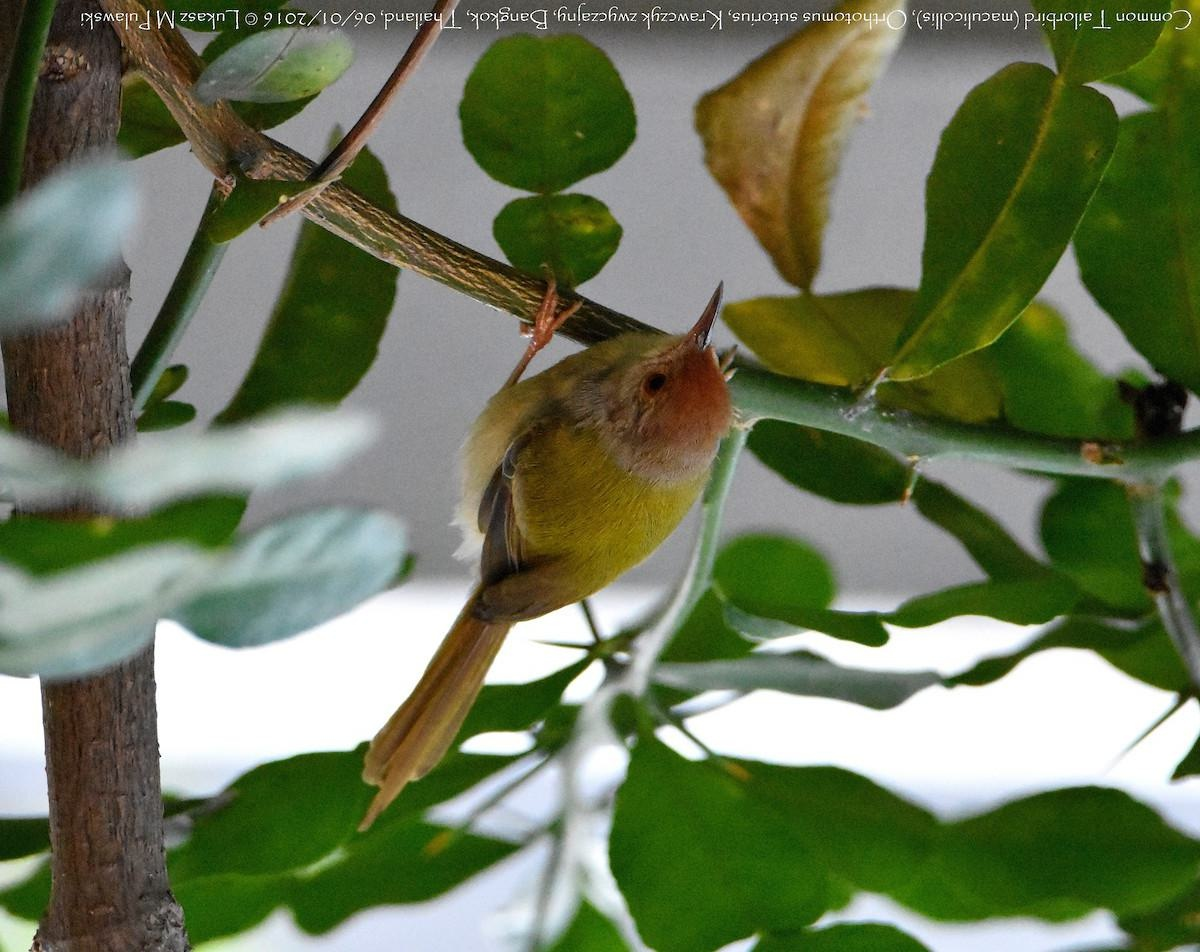tailorbird: (338, 259, 757, 842)
